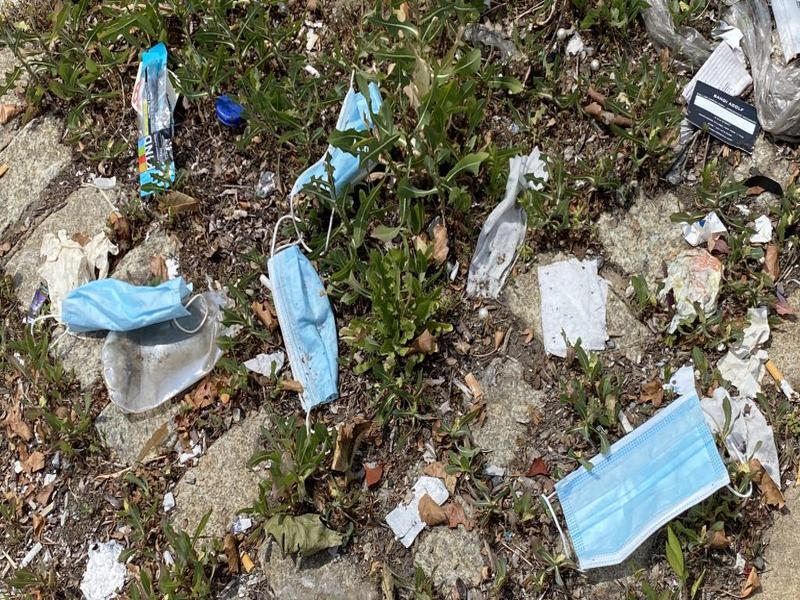mask: (538, 384, 756, 580), (276, 60, 390, 254), (262, 212, 343, 436), (27, 277, 211, 340)
paper: (524, 256, 625, 363)
plastic: (118, 39, 196, 191)
